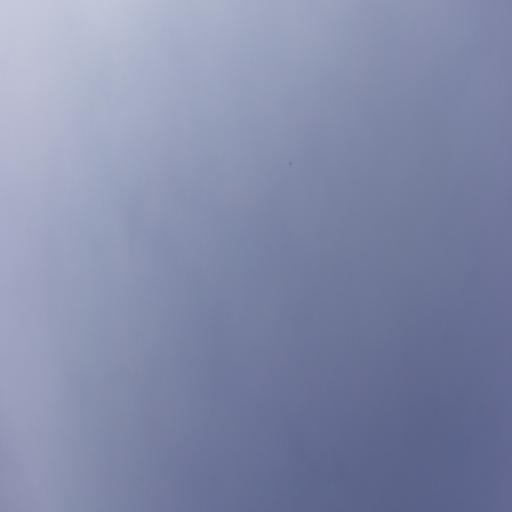drones: (288, 160, 292, 166)
